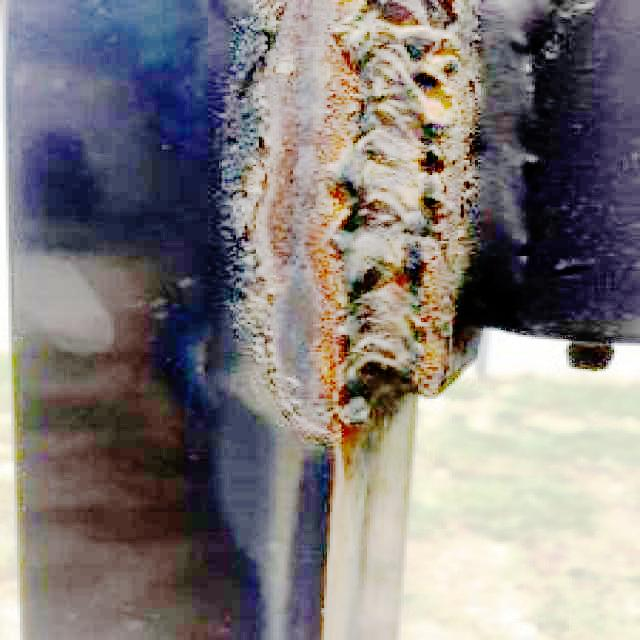Corrosion: (327, 0, 476, 400)
